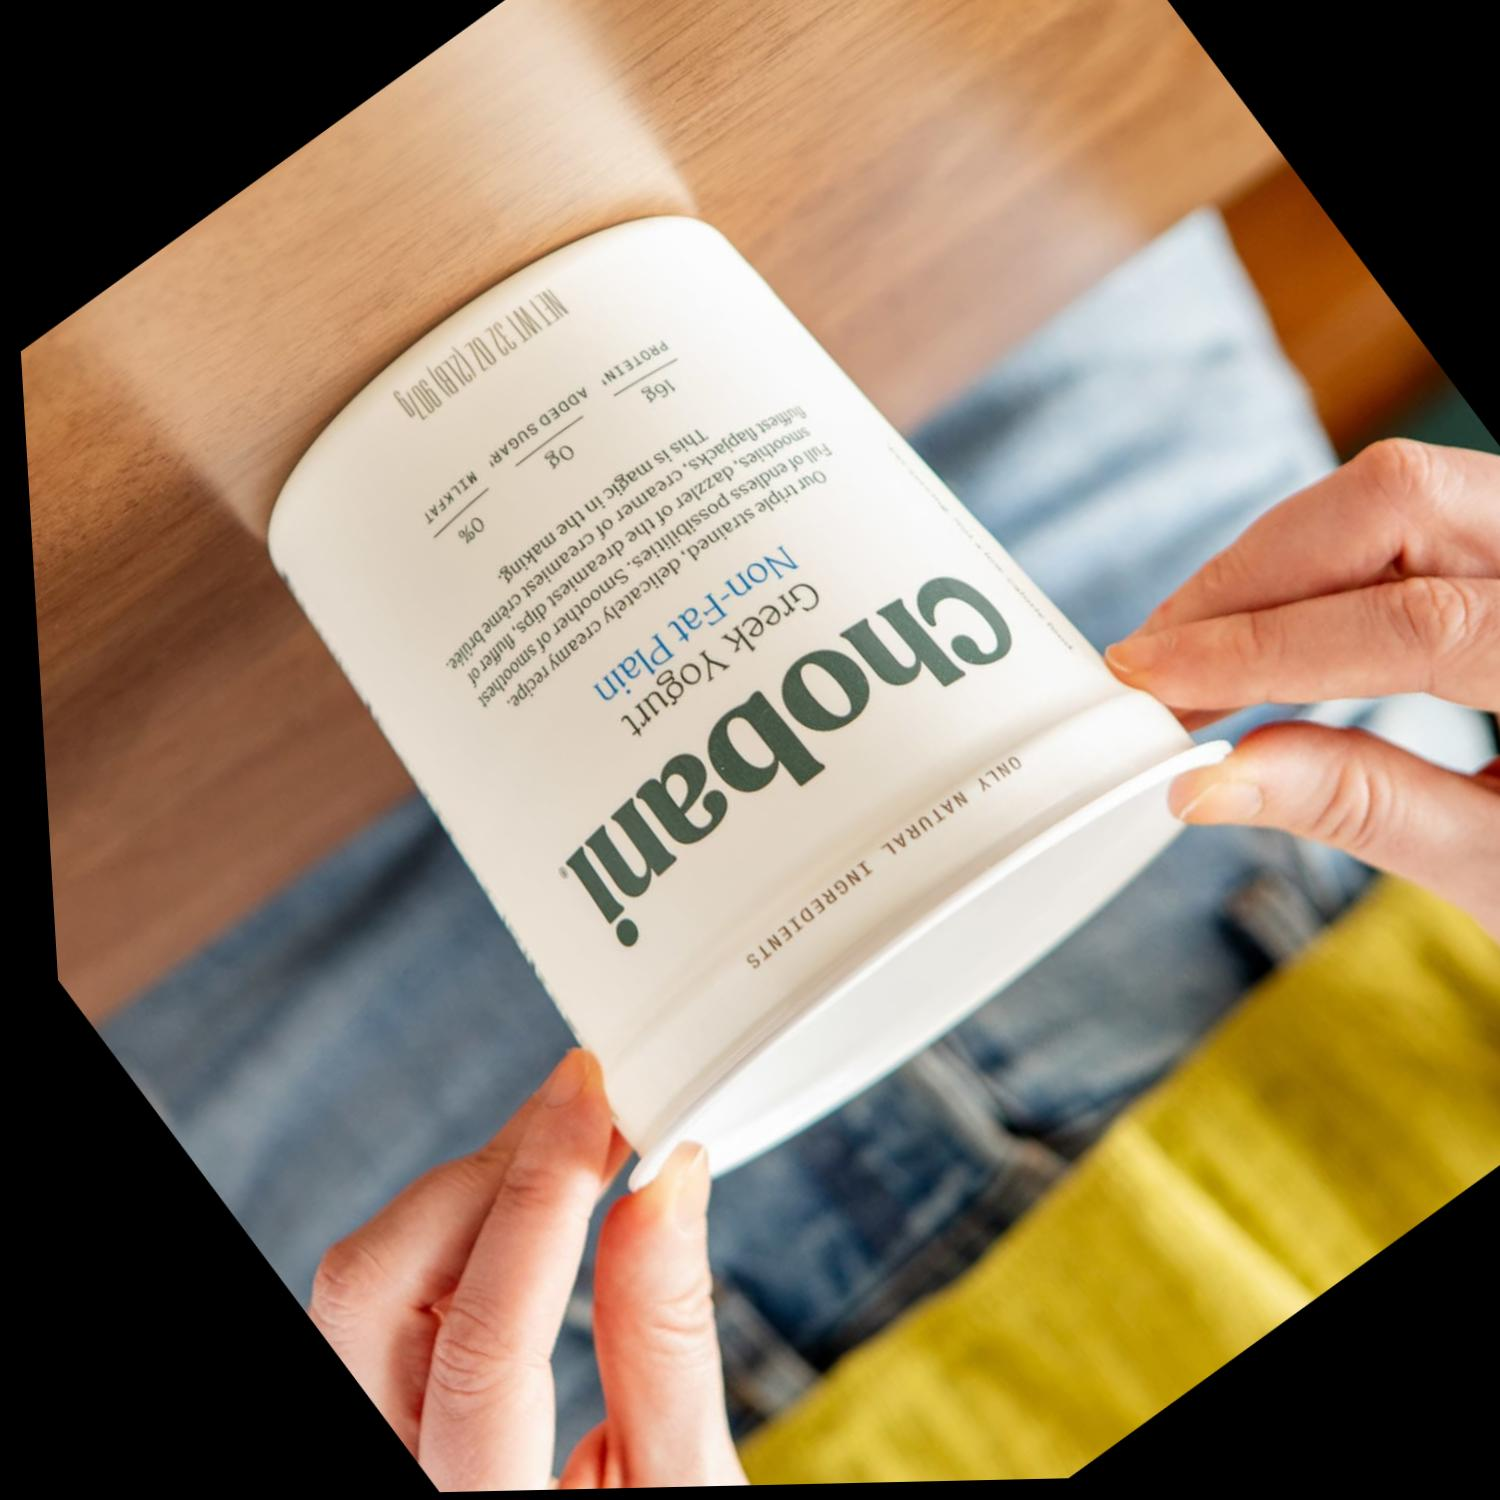plastic: (106, 210, 1479, 1365)
